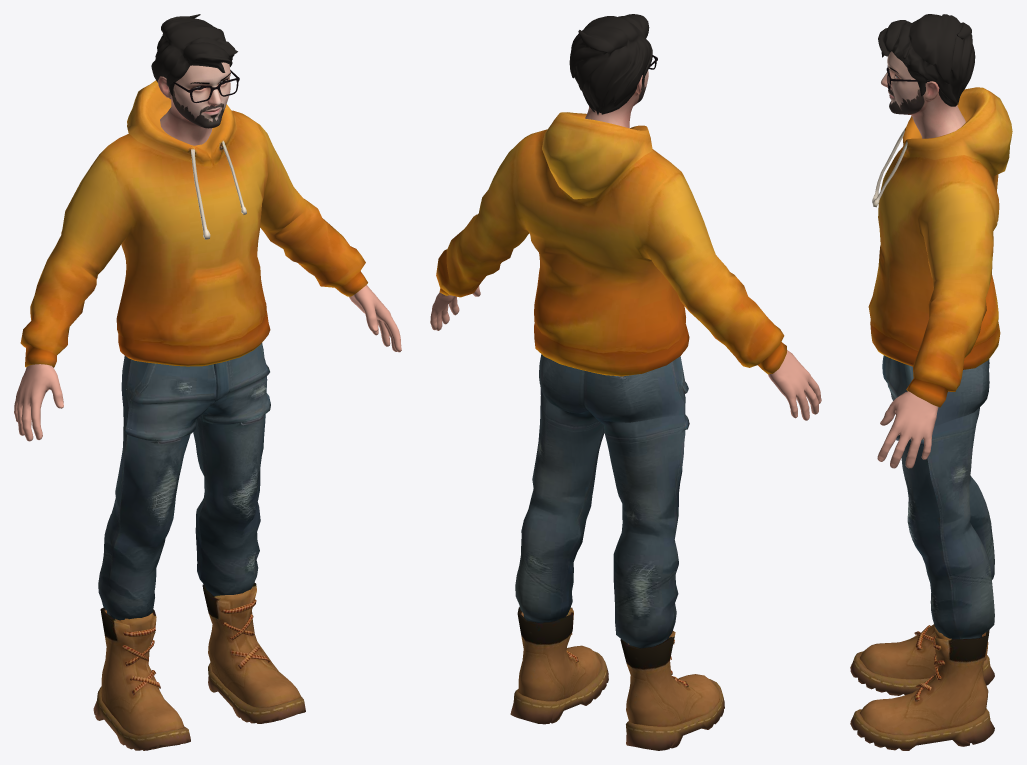
The model's file is newModel.glb.
The picture shows the model from 3 angles, left to right: view 1: azimuth 30°, elevation 25°; view 2: azimuth 150°, elevation 25°; view 3: azimuth 270°, elevation 25°; orthographic projection.
Visible parts, largest first — view 1: Wolf3D_Outfit_Top, Wolf3D_Outfit_Bottom, Wolf3D_Outfit_Footwear, Wolf3D_Head, Wolf3D_Hair, Wolf3D_Body; view 2: Wolf3D_Outfit_Top, Wolf3D_Outfit_Bottom, Wolf3D_Outfit_Footwear, Wolf3D_Hair, Wolf3D_Body, Wolf3D_Head; view 3: Wolf3D_Outfit_Top, Wolf3D_Outfit_Bottom, Wolf3D_Outfit_Footwear, Wolf3D_Hair, Wolf3D_Head, Wolf3D_Body.
Boxes of the visible parts, x1,y1,x2,y2 form: Wolf3D_Outfit_Top: [20, 80, 367, 367]; Wolf3D_Outfit_Bottom: [98, 343, 270, 620]; Wolf3D_Outfit_Footwear: [93, 582, 305, 750]; Wolf3D_Head: [157, 62, 230, 145]; Wolf3D_Hair: [151, 14, 237, 98]; Wolf3D_Body: [14, 285, 401, 441]; Wolf3D_Outfit_Top: [436, 112, 786, 376]; Wolf3D_Outfit_Bottom: [515, 354, 689, 648]; Wolf3D_Outfit_Footwear: [510, 607, 724, 750]; Wolf3D_Hair: [569, 14, 652, 114]; Wolf3D_Body: [430, 286, 821, 420]; Wolf3D_Head: [585, 70, 648, 128]; Wolf3D_Outfit_Top: [868, 87, 1012, 407]; Wolf3D_Outfit_Bottom: [882, 355, 994, 639]; Wolf3D_Outfit_Footwear: [850, 624, 994, 750]; Wolf3D_Hair: [878, 14, 975, 106]; Wolf3D_Head: [881, 51, 965, 138]; Wolf3D_Body: [877, 391, 938, 468].
Bounding box in the file's own units: 1.06 × 1.88 × 0.398.
9 materials, 9 textured.
